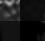altar: (0, 0, 20, 21)
